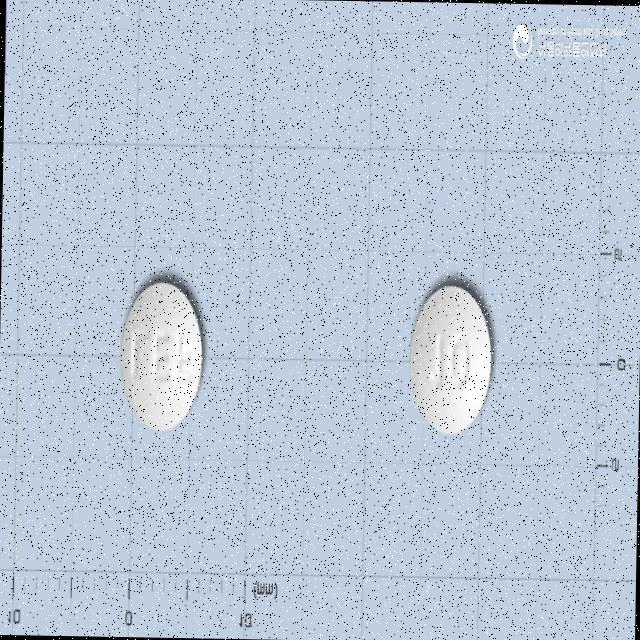R-A Tab: (406, 284, 494, 438), (118, 278, 204, 433)
